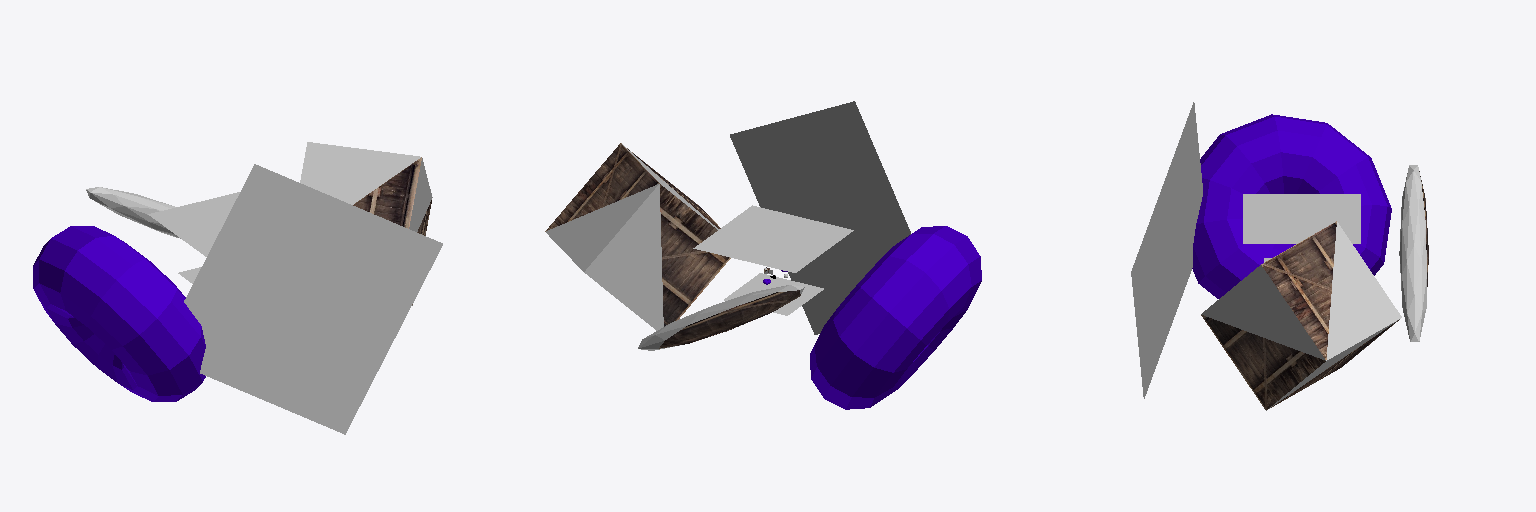
The picture shows the model from 3 angles: view 1: azimuth 30°, elevation 25°; view 2: azimuth 150°, elevation 25°; view 3: azimuth 270°, elevation 25°; orthographic projection.
Parts seen in each view (by area): view 1: Triangulated_Quad.003, Torus.002, Triangulated_Cube.001, Triangulated_Quad.002, Icosphere.001; view 2: Triangulated_Quad.003, Torus.002, Triangulated_Cube.001, Triangulated_Quad.002, Icosphere.001, Triangulated_Quad; view 3: Triangulated_Cube.001, Torus.002, Triangulated_Quad.003, Triangulated_Quad.002, Icosphere.001.
Part boxes in pixels (x1,y1,x2,y2): Triangulated_Quad.003: (184, 164, 442, 434); Torus.002: (33, 226, 205, 401); Triangulated_Cube.001: (300, 142, 432, 305); Triangulated_Quad.002: (148, 192, 239, 256); Icosphere.001: (86, 187, 180, 238); Triangulated_Quad.003: (730, 101, 910, 334); Torus.002: (810, 226, 981, 409); Triangulated_Cube.001: (545, 143, 730, 330); Triangulated_Quad.002: (693, 205, 853, 272); Icosphere.001: (638, 285, 804, 350); Triangulated_Quad: (724, 273, 823, 315); Triangulated_Cube.001: (1201, 221, 1401, 410); Torus.002: (1192, 114, 1391, 298); Triangulated_Quad.003: (1131, 102, 1202, 398); Triangulated_Quad.002: (1243, 194, 1360, 243); Icosphere.001: (1399, 165, 1428, 341).
Bounding box in the file's own units: 190 × 122 × 123.
5 materials, 2 textured.